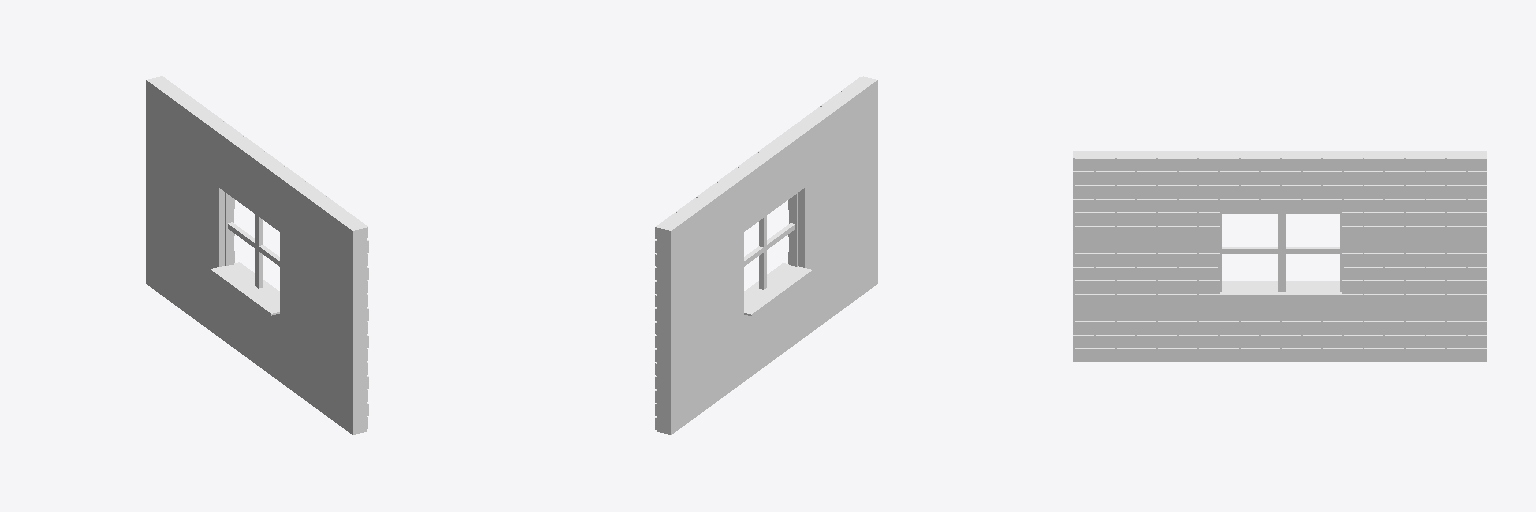
The model's file is brick_wall_window.obj.
3 views of the same model, side by side, from view 1: azimuth 30°, elevation 25°; view 2: azimuth 150°, elevation 25°; view 3: azimuth 270°, elevation 25° (orthographic).
Parts seen in each view (by area): view 1: object 1; view 2: object 1; view 3: object 1.
Part boxes in pixels (x1,y1,x2,y2): object 1: (146,76,368,434); object 1: (655,76,877,434); object 1: (1073,151,1486,361).
Bounding box in the file's own units: 1.8 × 12 × 22.